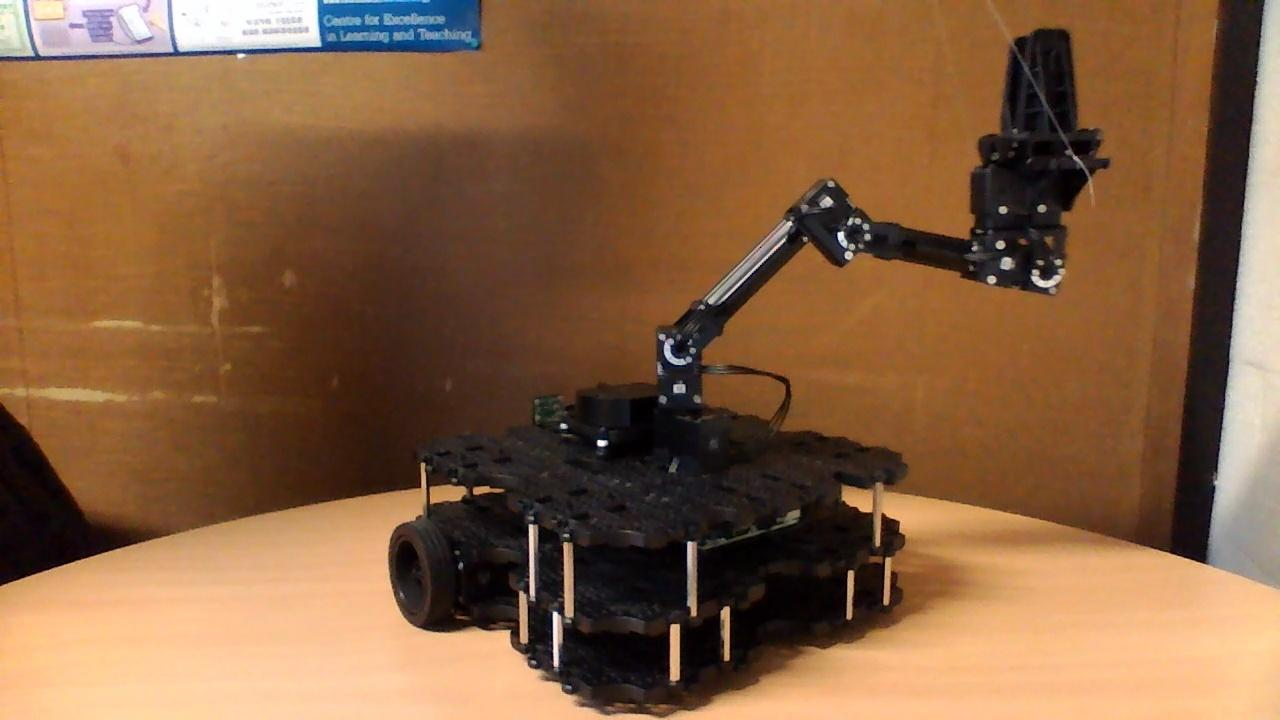Arm: (652, 174, 867, 373)
Hand: (962, 24, 1118, 238)
Wrist: (849, 213, 1072, 301)
base: (385, 381, 913, 701)
